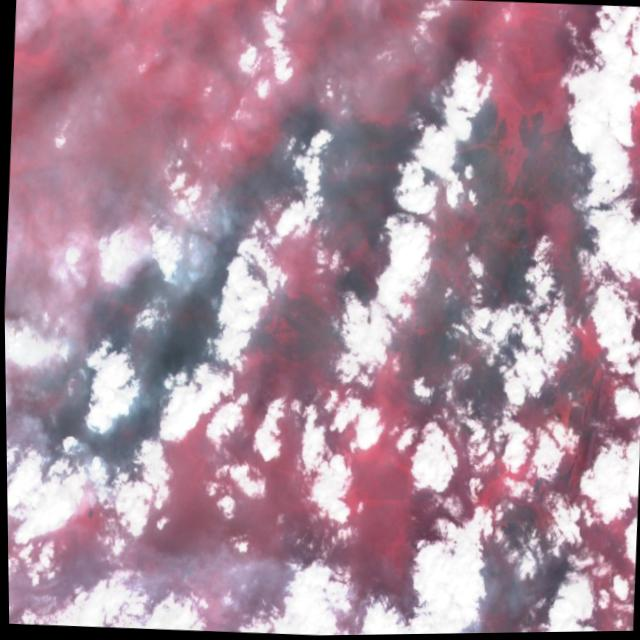fire: (14, 288, 166, 505), (189, 146, 269, 273), (547, 535, 579, 573), (452, 605, 490, 635)
